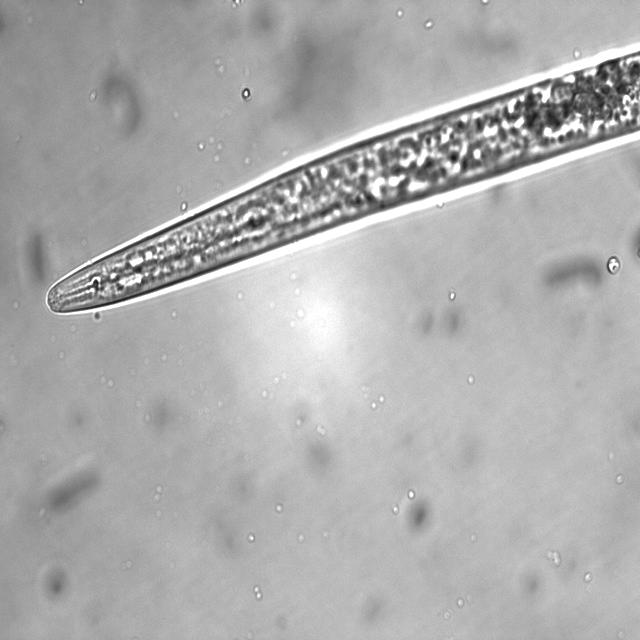Meloidogyne: (45, 47, 640, 320)
